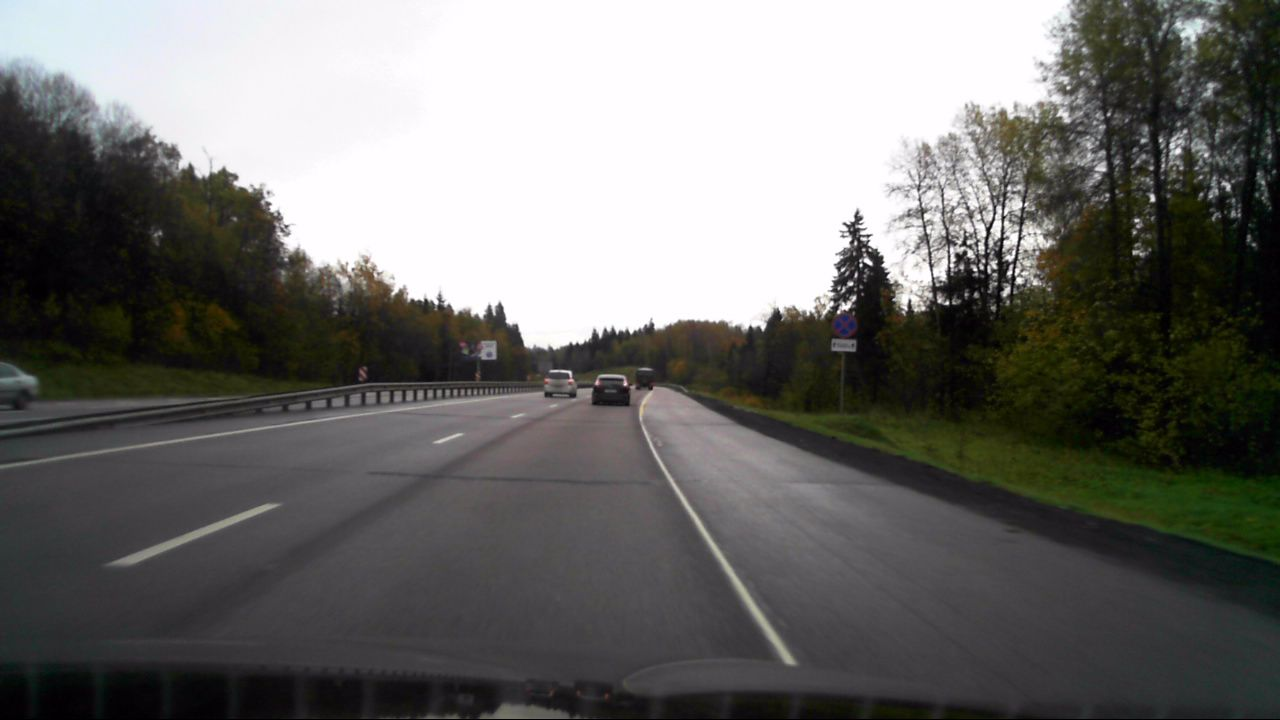No Parking: (832, 314, 856, 337)
